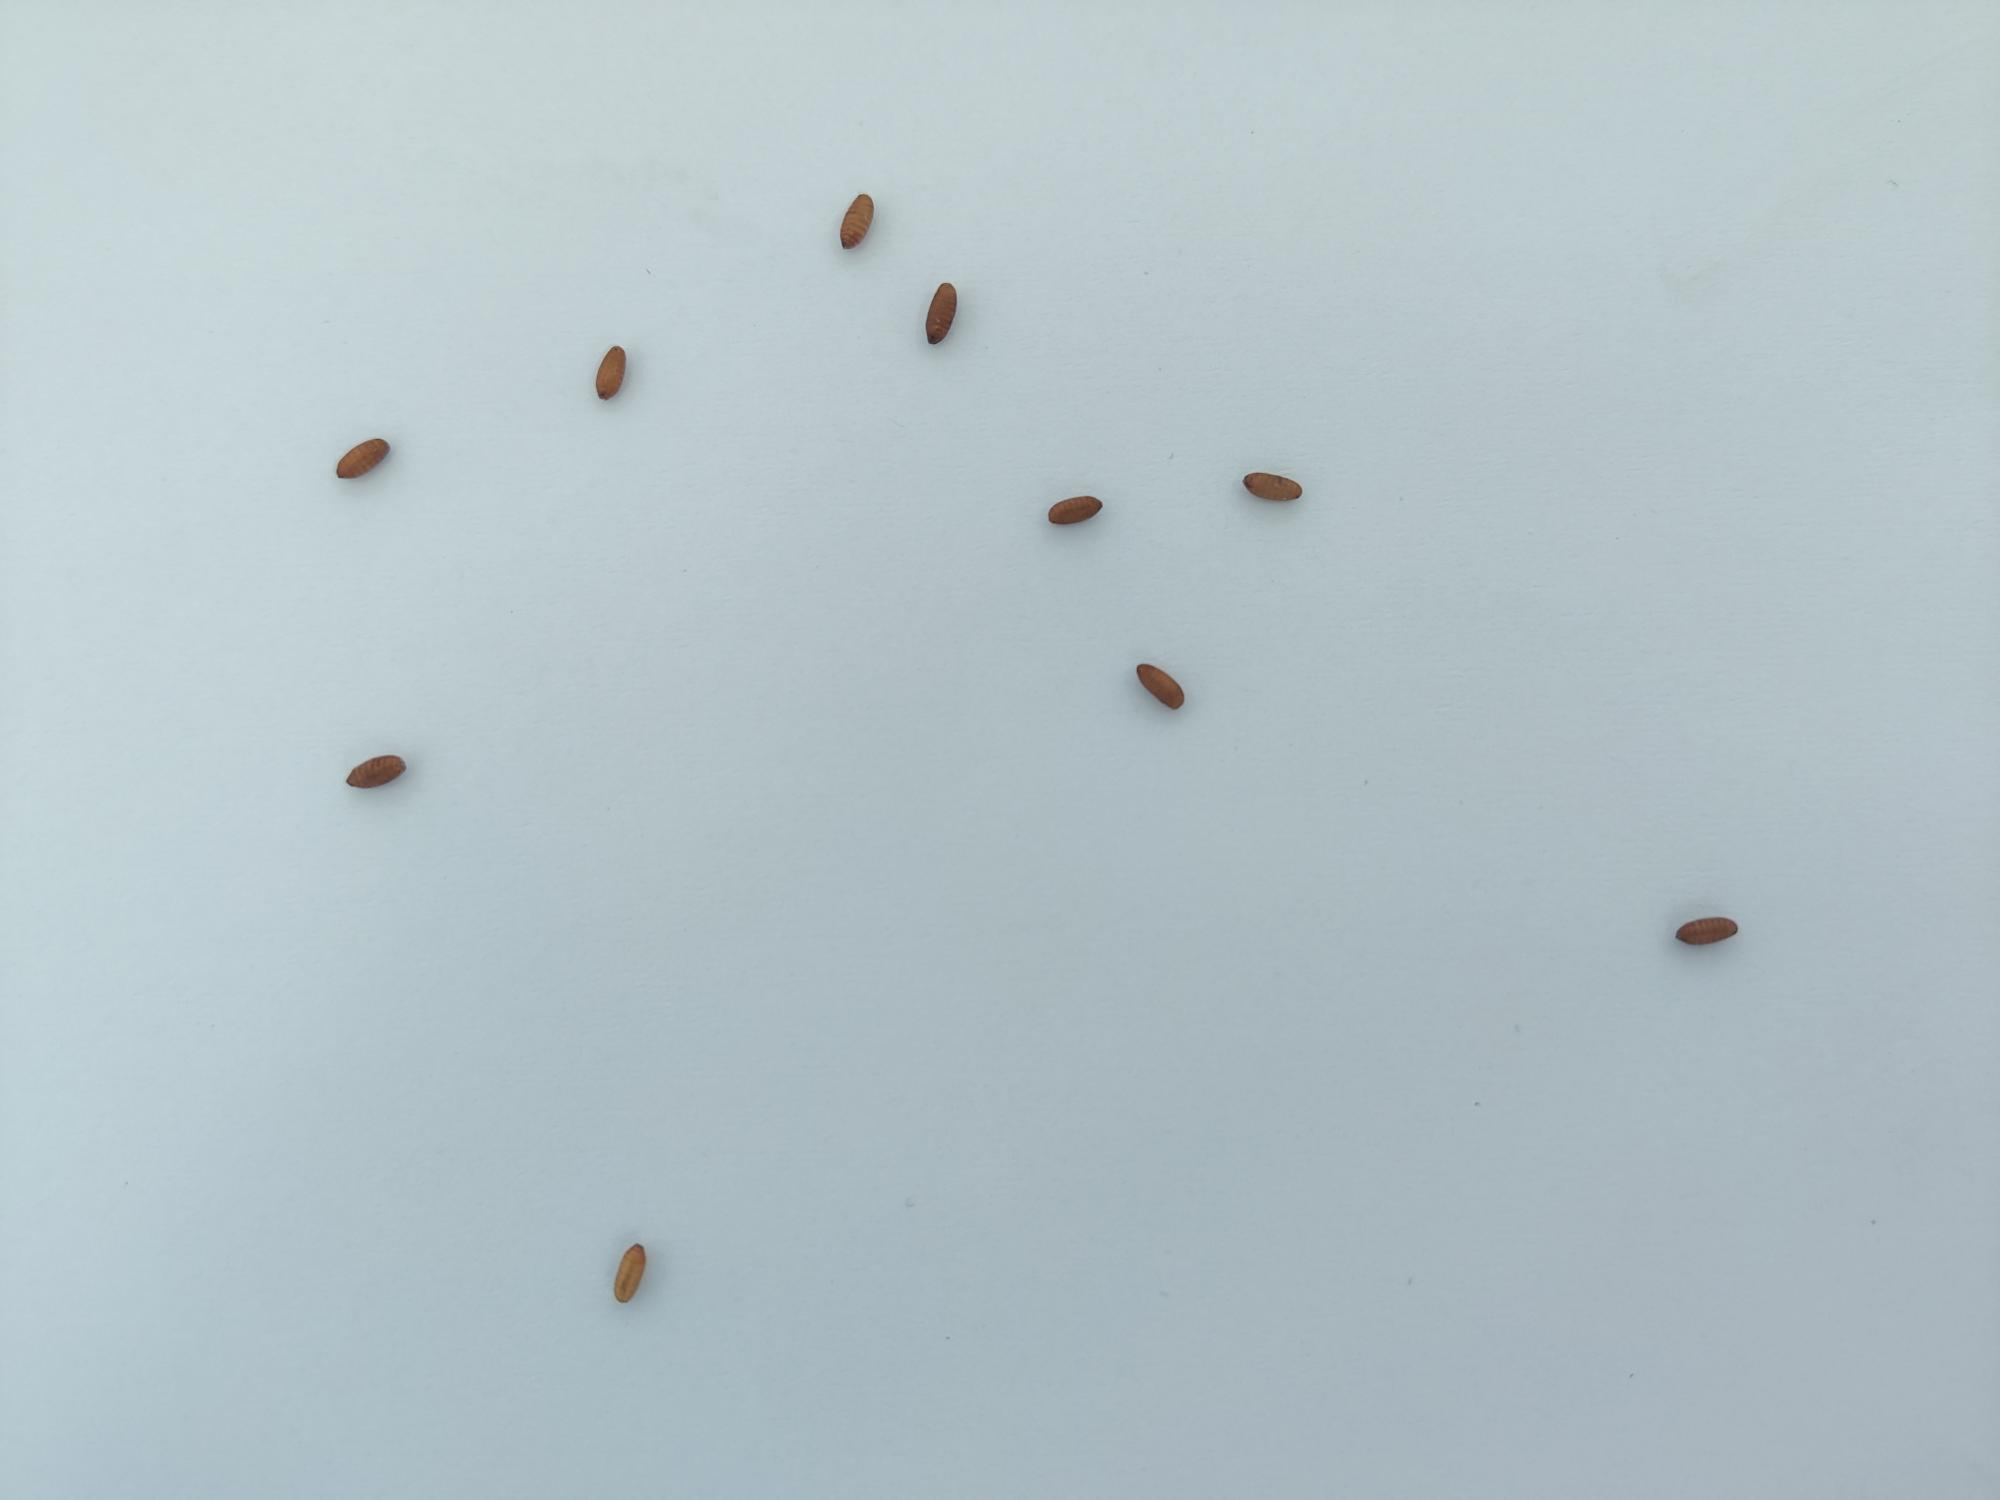pupae: (1235, 460, 1312, 512), (830, 183, 882, 258), (1129, 652, 1191, 715), (606, 1235, 654, 1312), (1669, 908, 1748, 953), (921, 274, 962, 361), (339, 748, 413, 796), (334, 429, 395, 485), (589, 337, 631, 411), (1038, 490, 1109, 529)
